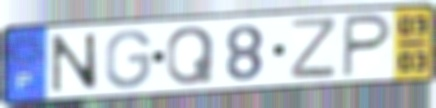8: (224, 23, 267, 82)
G: (103, 27, 154, 91)
N: (48, 31, 101, 95)
P: (340, 12, 394, 80)
Q: (164, 24, 217, 88)
Z: (288, 15, 339, 80)
